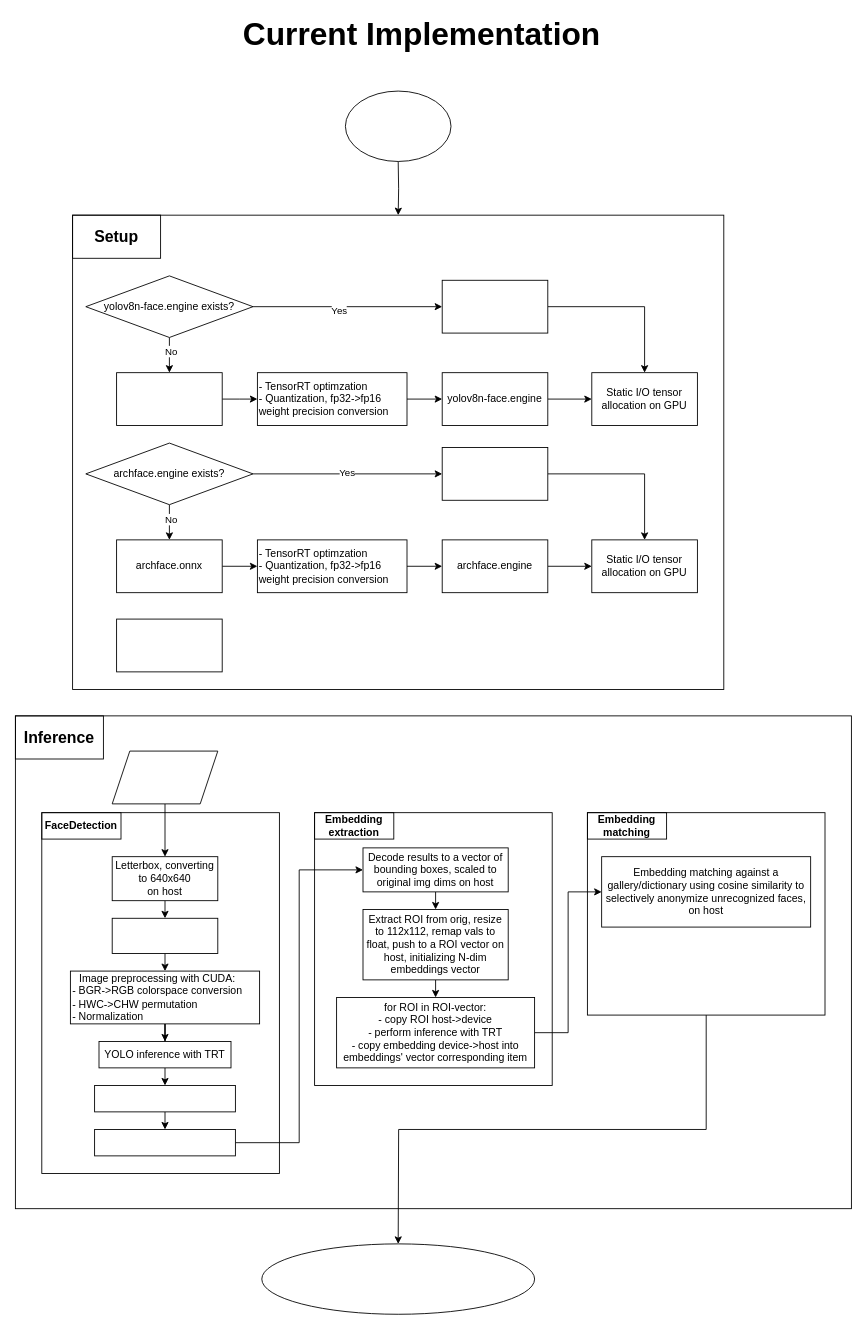
Some shapes in this 867 by 1330 pixel diagram are drawn without their labels. Each missing label, with the centre of its shape:
"Blurring uncategorized faces" belongs at point (398, 1278).
"Copy image host->cuda device" belongs at point (164, 935).
"Copy output tensor cuda-device->host" belongs at point (164, 1098).
"Decode results to a vector of bounding boxes" belongs at point (164, 1142).
"Embedding Gallery load into RAM" belongs at point (169, 645).
"Input image 1920x1080x3" belongs at point (164, 777).
"Reading archface.engine from disc, loading to GPU" belongs at point (494, 473).
"Reading yolov8n-face.engine from disc, loading to GPU" belongs at point (494, 306).
"Start" belongs at point (398, 125).
"yolov8n-face.onnx" belongs at point (169, 398).
